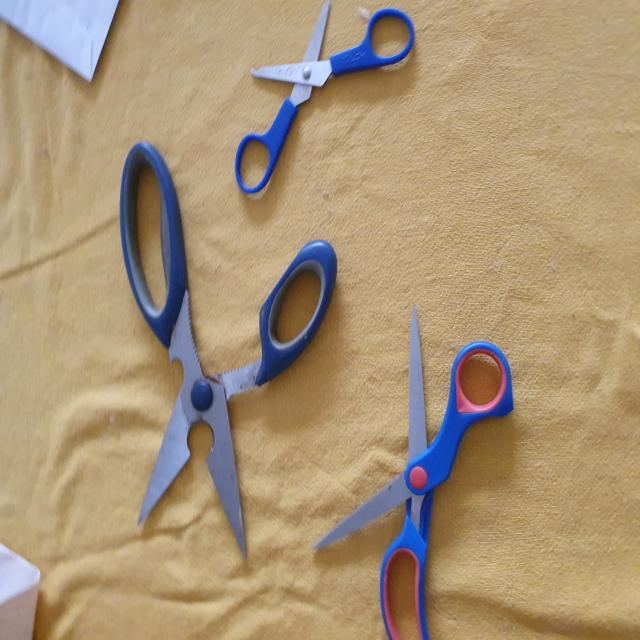scissors: (118, 138, 335, 559), (313, 307, 519, 640), (234, 0, 416, 197)
